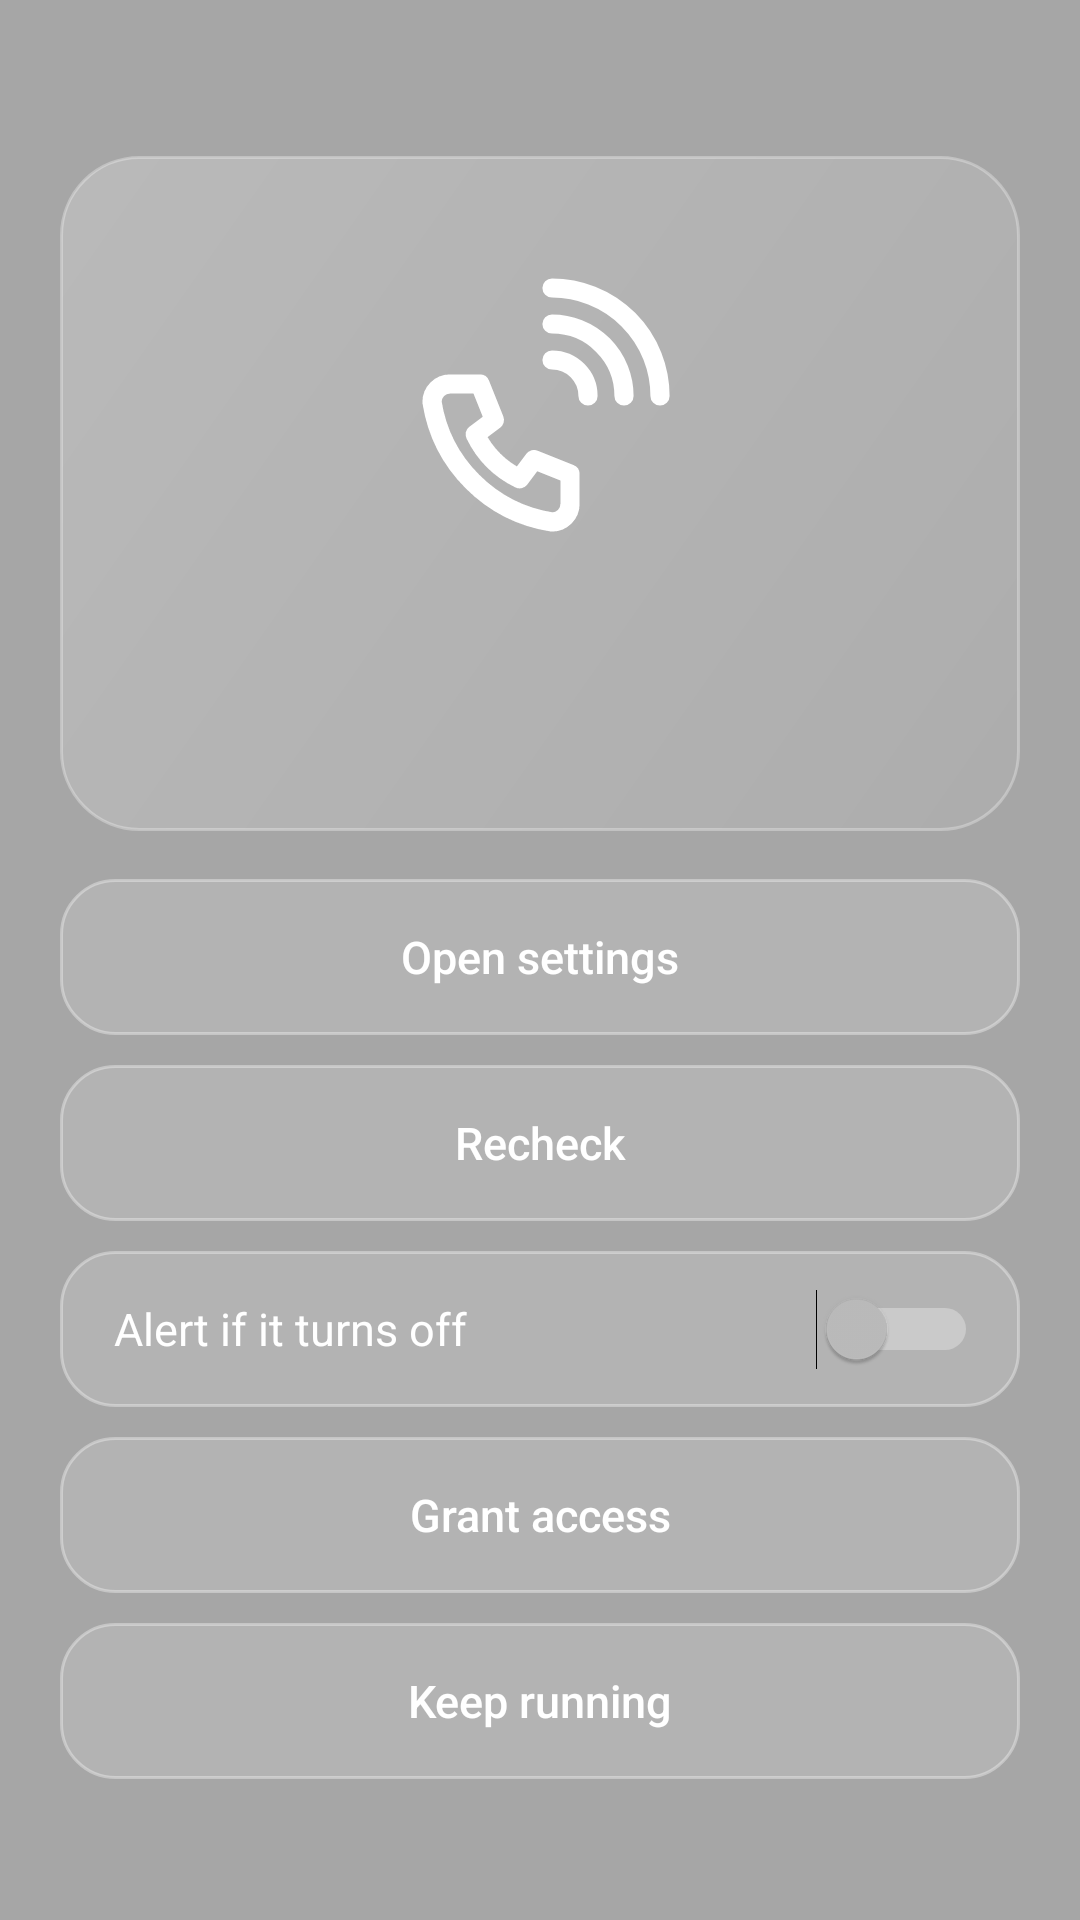

Icons on this 1080 × 1920 Android screen, each with its box as (x1, y1, x2, y2):
Wi-Fi Calling status: (422, 278, 670, 532)
